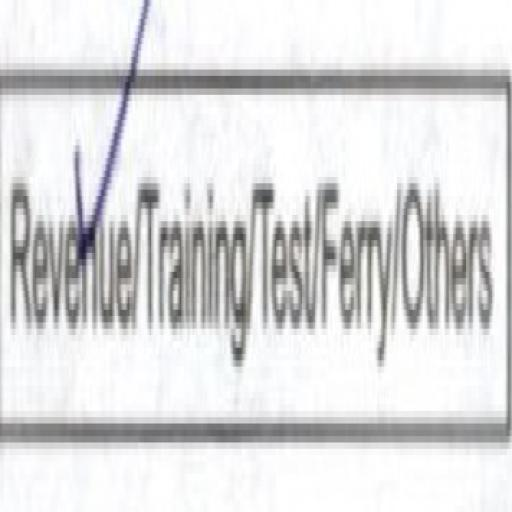check: (4, 7, 137, 458)
